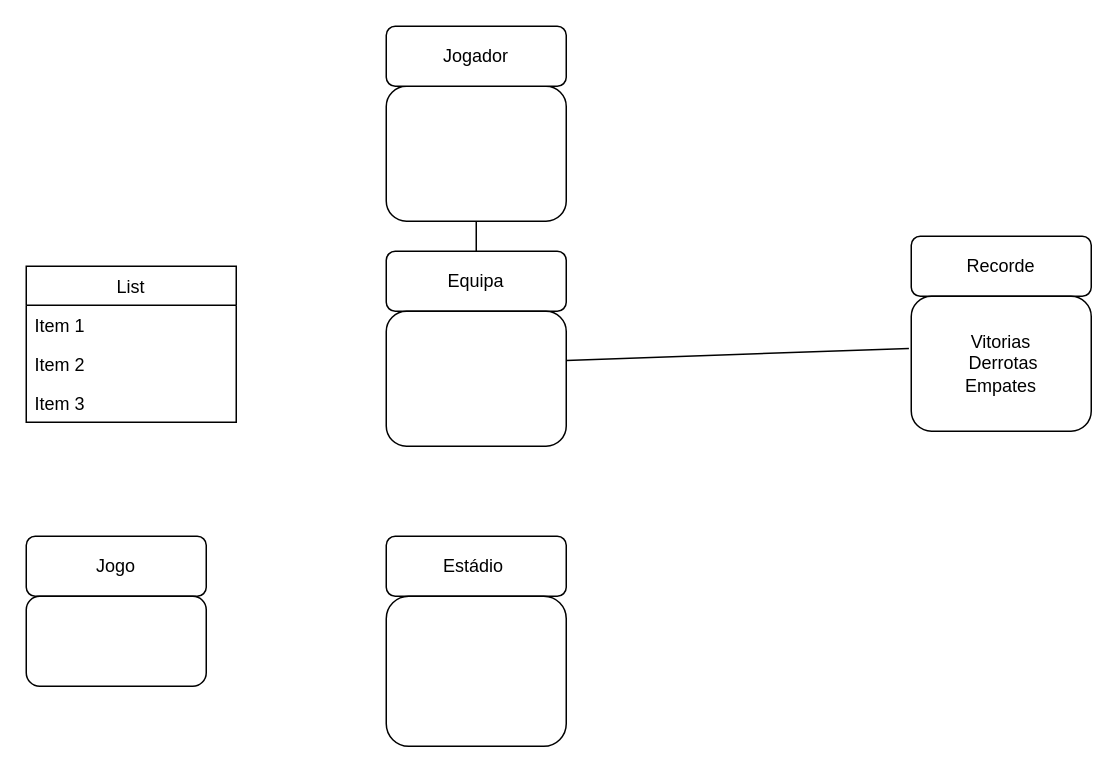
This 1118x773 diagram has some shape labels left out. Here are the shapes that lost their labels. From the top down, the centre of each, then its label:
At [475,153]: "idJogador nome idade datadeNasc".
At [475,378]: "idEquipa nome nPontos Classificação".
At [115,640]: "idJogo".
At [475,670]: "idEstadio nomeEstadio Capacidade Condi".
